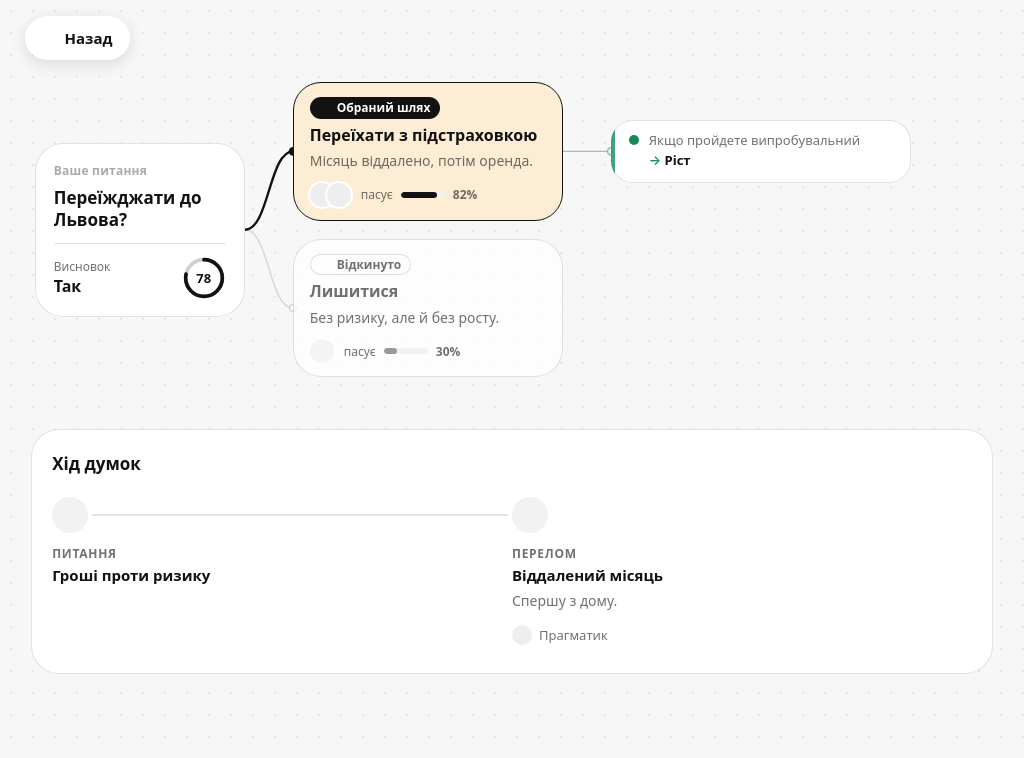
дерево рішень › показує готове дерево без запиту до сервера, а клік відкриває деталі шляху
The image size is (1024, 758).
Expected: the text "Переїжджати до Львова?" is shown, 54,187 -> 226,231
Expected: the heading "Хід думок" is shown, 52,452 -> 141,475
Step 1. Click the button "Переїхати з підстраховкою" → (428, 151), box 293,82 -> 563,221
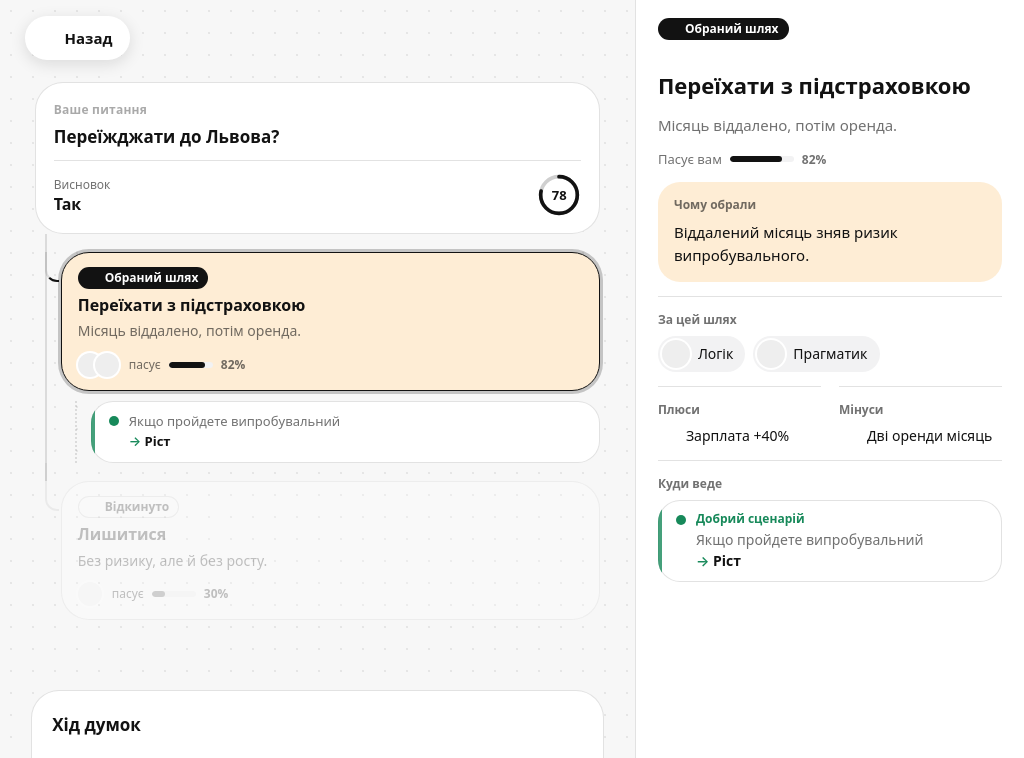
Expected: the text "Прагматик" is shown, 793,344 -> 868,363
Result: the heading "Чому обрали" is shown at 674,196 -> 756,213
Result: the text "Віддалений місяць зняв ризик випробувального." is shown at 674,222 -> 898,265
